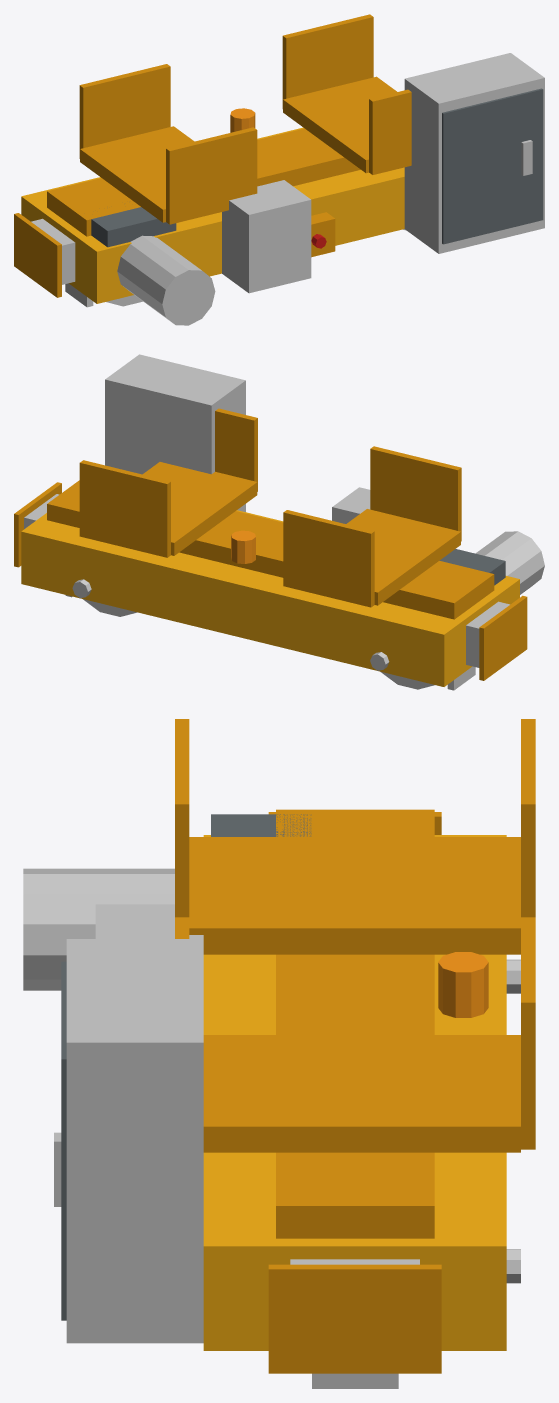
Rendered from body.obj.
3 renders of one model, top to bottom at view 1: azimuth 30°, elevation 25°; view 2: azimuth 150°, elevation 25°; view 3: azimuth 270°, elevation 25°, orthographic. The views are drawn at different scales.
Bounding box in the file's own units: 3 × 1.13 × 1.42.
